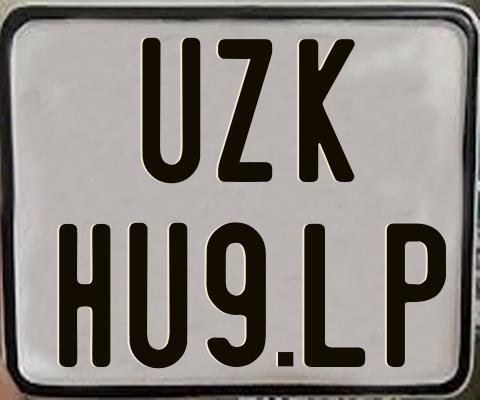9: (203, 219, 264, 369)
H: (59, 224, 114, 368)
K: (298, 38, 354, 185)
L: (303, 223, 369, 368)
P: (386, 220, 446, 364)
U: (126, 222, 190, 371), (140, 36, 203, 181)
Z: (217, 38, 273, 181)
